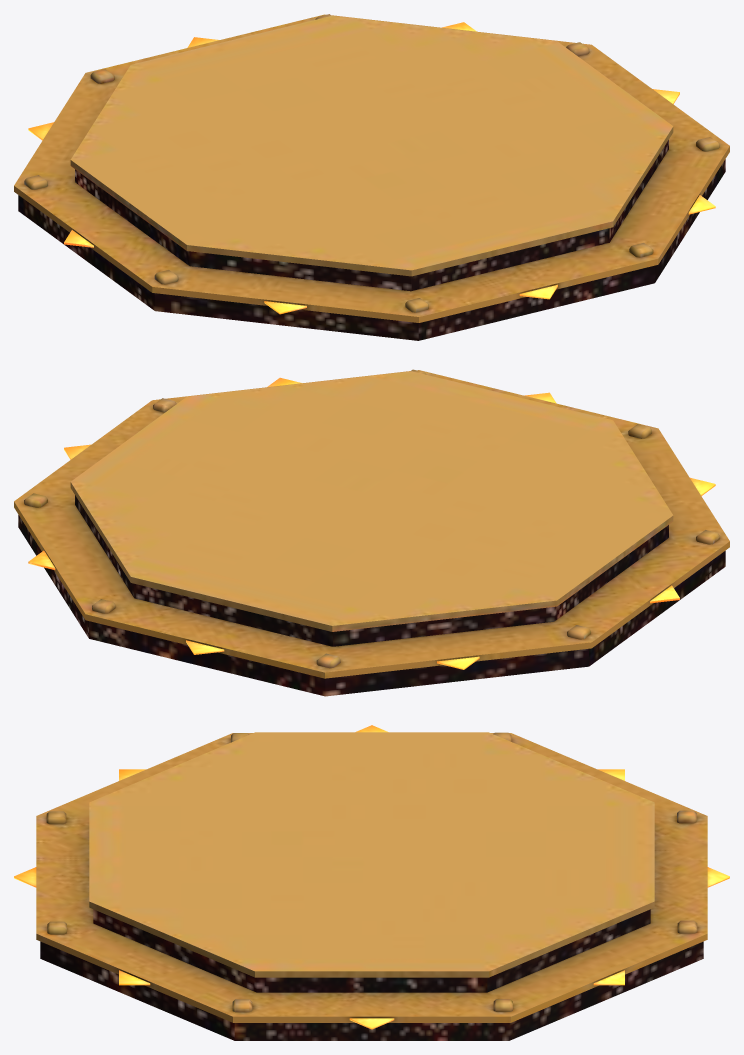
Rendered from base_core_fire.glb.
3 views of the same model, one above another, from view 1: azimuth 30°, elevation 25°; view 2: azimuth 150°, elevation 25°; view 3: azimuth 270°, elevation 25° (orthographic).
Visible parts, largest first — view 1: base_core_fire; view 2: base_core_fire; view 3: base_core_fire.
Part boxes in pixels (x1,y1,x2,y2): base_core_fire: [14, 14, 729, 340]; base_core_fire: [14, 369, 729, 696]; base_core_fire: [14, 725, 729, 1040].
Size of the model in its own units: 12.77 by 0.96 by 12.77.
Materials: 1 (1 with a texture image).
